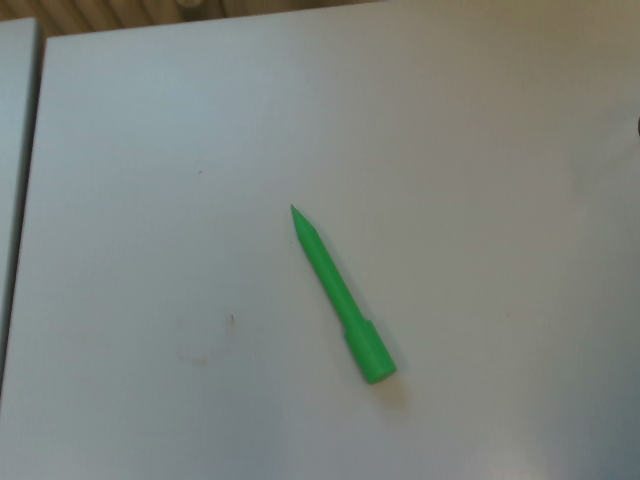Probe: (286, 198, 402, 392)
